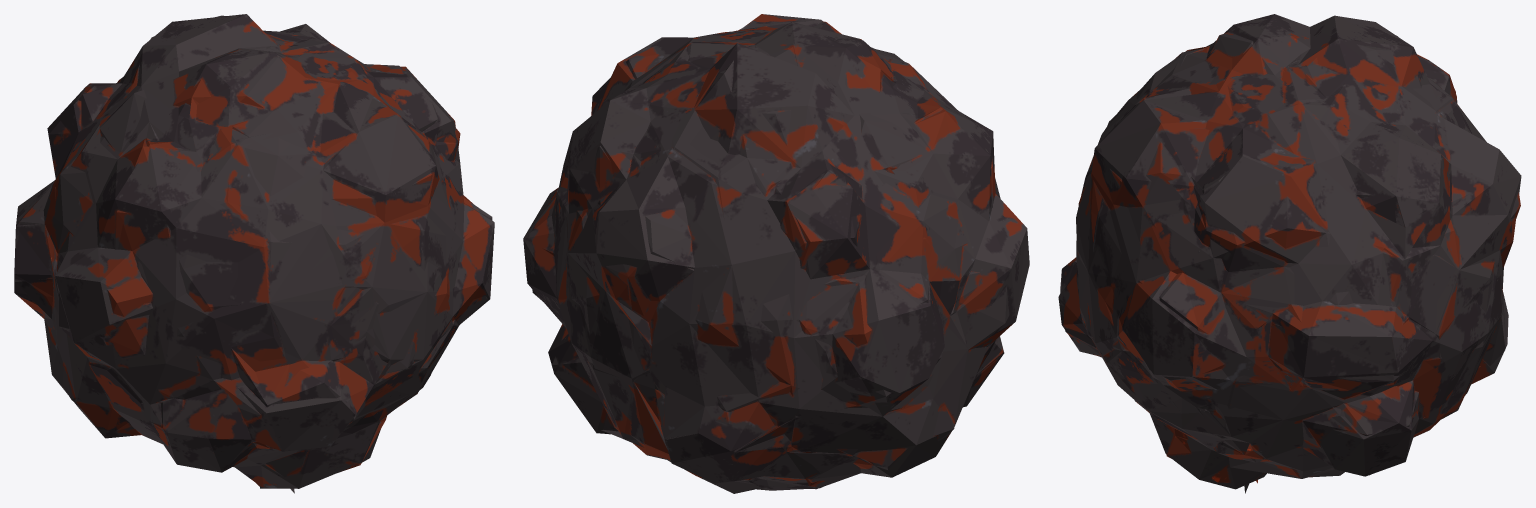
The model's file is meteor.glb.
3 views of the same model, side by side, from view 1: azimuth 30°, elevation 25°; view 2: azimuth 150°, elevation 25°; view 3: azimuth 270°, elevation 25° (orthographic). The views are drawn at different scales.
Parts seen in each view (by area): view 1: world; view 2: world; view 3: world.
Part boxes in pixels (box(x1,y1,x2,y2)): world: box(14, 14, 494, 493); world: box(523, 14, 1029, 493); world: box(1058, 14, 1521, 493).
Size of the model in its own units: 1.2 by 1.23 by 1.14.
Materials: 1 (1 with a texture image).
